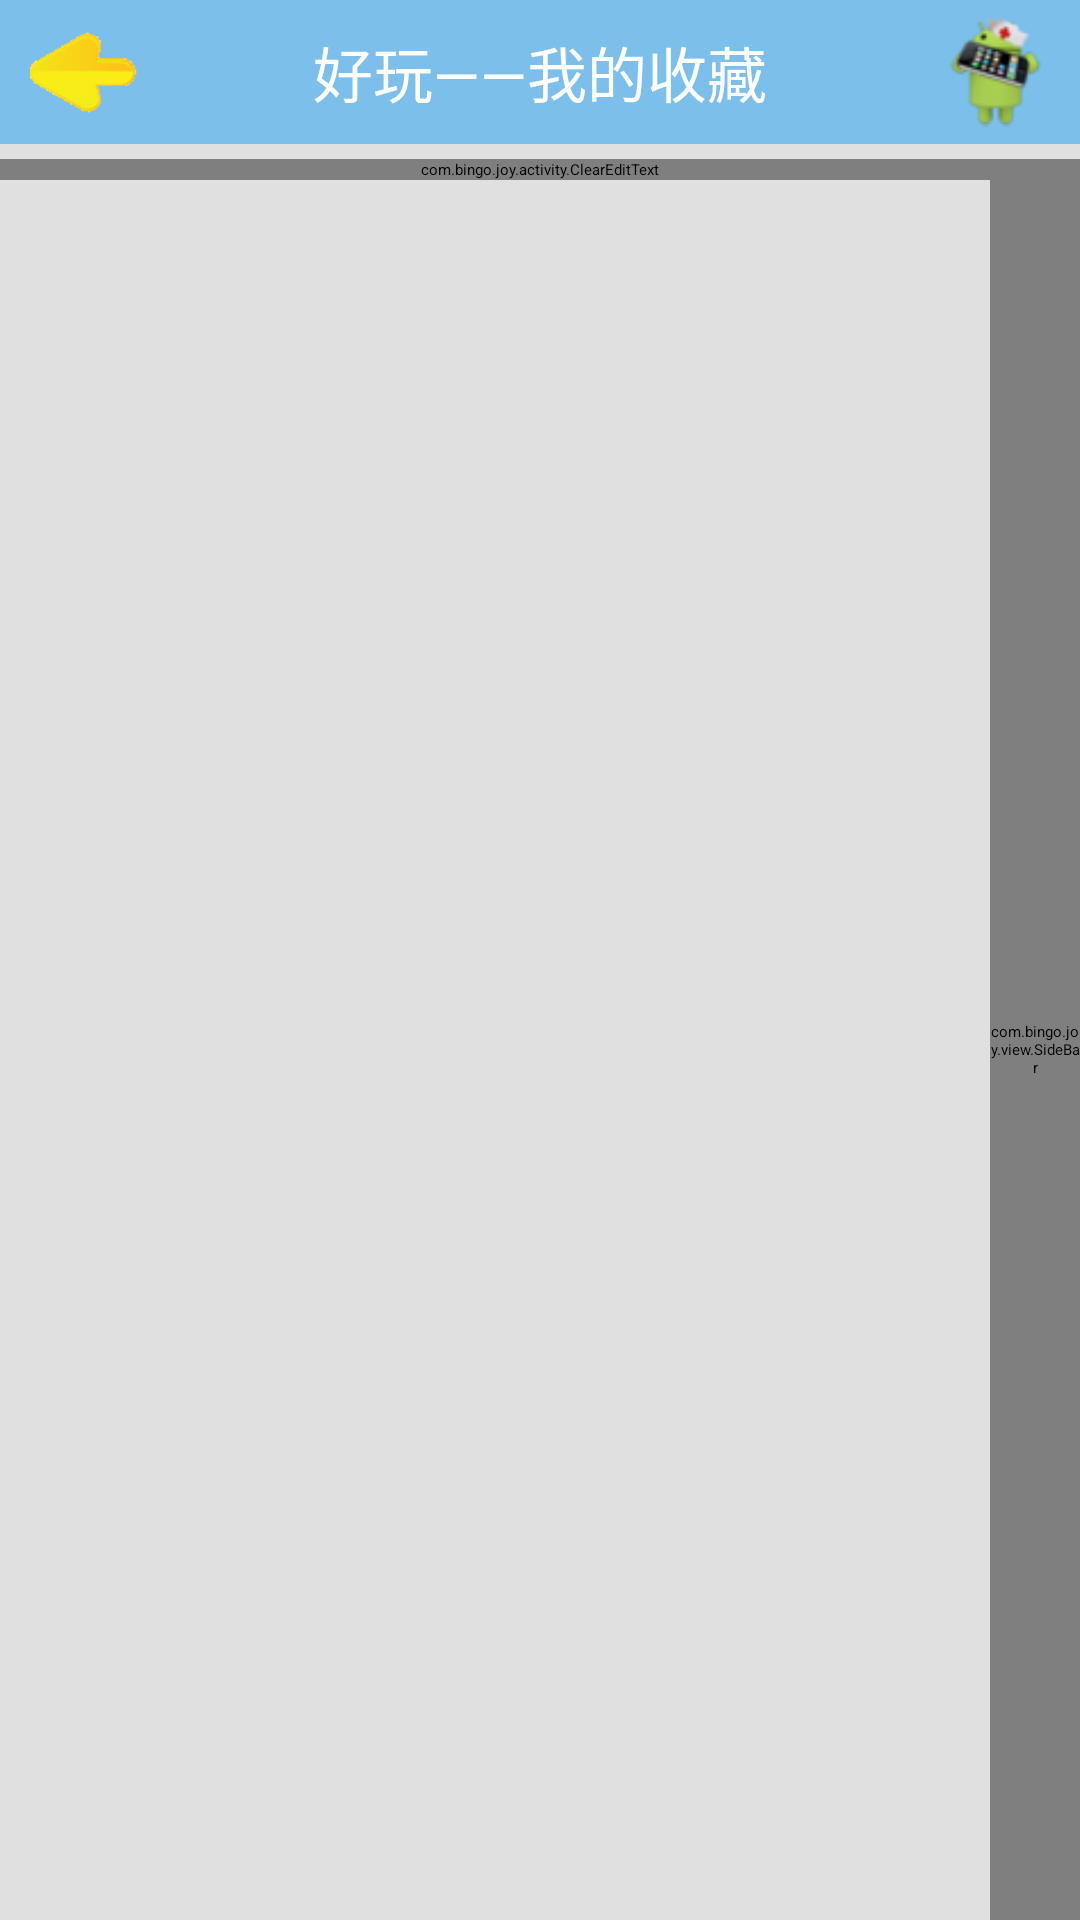

Locate icon controls on the screen. Image size 1080*1920, boxes as (x1, y1, x2, y2).
left: (30, 32, 137, 113)
